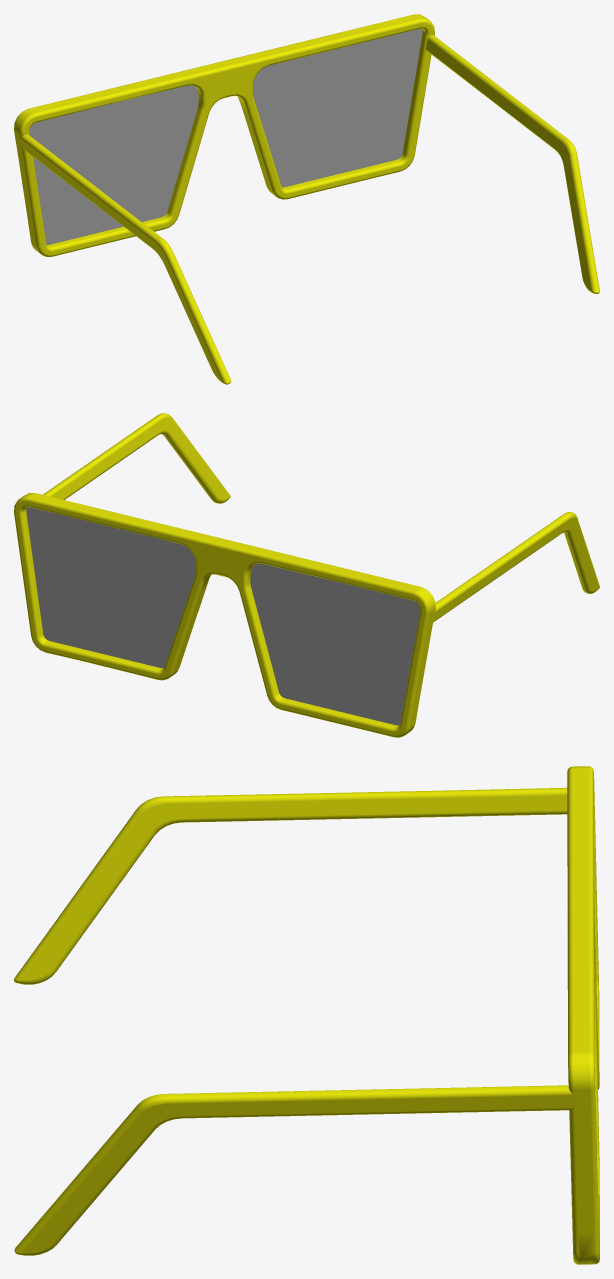
3 renders of one model, top to bottom at view 1: azimuth 30°, elevation 25°; view 2: azimuth 150°, elevation 25°; view 3: azimuth 270°, elevation 25°, orthographic. The views are drawn at different scales.
Visible parts, largest first — view 1: uploads_files_593613_gözlük:object_3, uploads_files_593613_gözlük:object_6, uploads_files_593613_gözlük:object_1, uploads_files_593613_gözlük:object_5, uploads_files_593613_gözlük:object_4; view 2: uploads_files_593613_gözlük:object_1, uploads_files_593613_gözlük:object_3, uploads_files_593613_gözlük:object_6, uploads_files_593613_gözlük:object_5, uploads_files_593613_gözlük:object_4; view 3: uploads_files_593613_gözlük:object_4, uploads_files_593613_gözlük:object_5, uploads_files_593613_gözlük:object_6.
Boxes of the visible parts, box(x1,y1,x2,y2) form: uploads_files_593613_gözlük:object_3: box(253, 28, 422, 187); uploads_files_593613_gözlük:object_6: box(14, 14, 434, 256); uploads_files_593613_gözlük:object_1: box(29, 85, 198, 244); uploads_files_593613_gözlük:object_5: box(426, 35, 599, 293); uploads_files_593613_gözlük:object_4: box(20, 134, 231, 384); uploads_files_593613_gözlük:object_1: box(250, 563, 420, 725); uploads_files_593613_gözlük:object_3: box(26, 507, 195, 668); uploads_files_593613_gözlük:object_6: box(14, 493, 435, 737); uploads_files_593613_gözlük:object_5: box(43, 413, 230, 503); uploads_files_593613_gözlük:object_4: box(433, 512, 599, 621); uploads_files_593613_gözlük:object_4: box(14, 787, 567, 984); uploads_files_593613_gözlük:object_5: box(14, 1085, 573, 1255); uploads_files_593613_gözlük:object_6: box(567, 766, 599, 1264).
Size of the model in its own units: 13.12 by 4.52 by 10.67.
